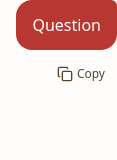
message actions › confirms success only when the browser reports successful copying
Click the button with aria-label "Copy message". click: (81, 74)
box: x1=49 y1=52 x2=113 y2=96
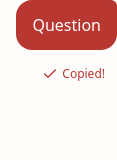
Check: the button with aria-label "Message copied" is shown, box x1=34 y1=52 x2=113 y2=96
